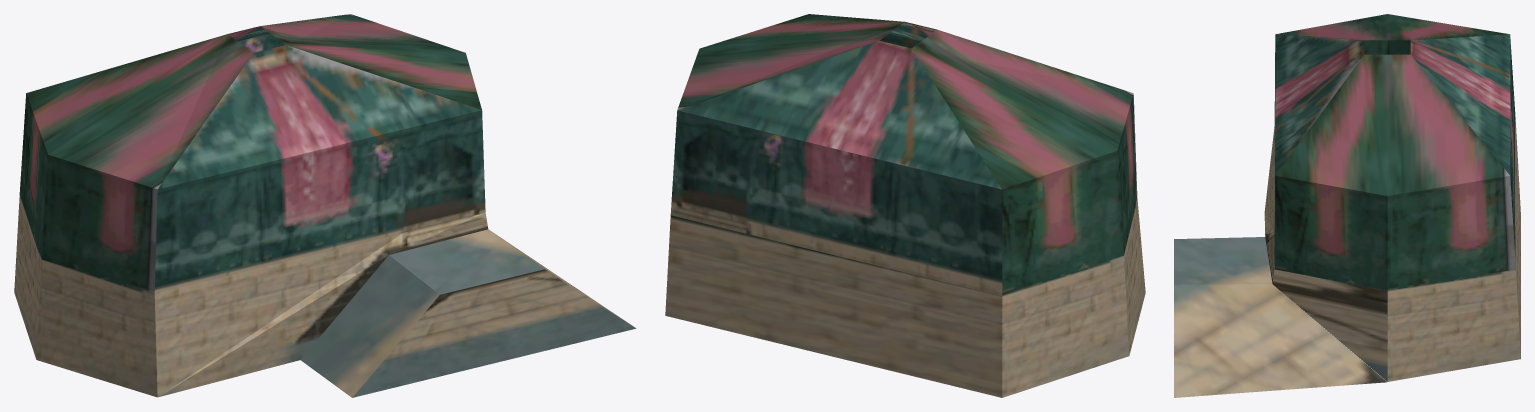
The model's file is ply_nboo_idesigner_tent_s01_r0_mesh_l3.fbx.
The picture shows the model from 3 angles, left to right: view 1: azimuth 30°, elevation 25°; view 2: azimuth 150°, elevation 25°; view 3: azimuth 270°, elevation 25°; orthographic projection. The views are drawn at different scales.
Visible parts, largest first — view 1: mesh_node; view 2: mesh_node; view 3: mesh_node.
Part boxes in pixels (x1,y1,x2,y2): mesh_node: (14,14,636,397); mesh_node: (665,14,1145,397); mesh_node: (1174,14,1520,397).
Size of the model in its own units: 17.22 by 9.13 by 12.03.
